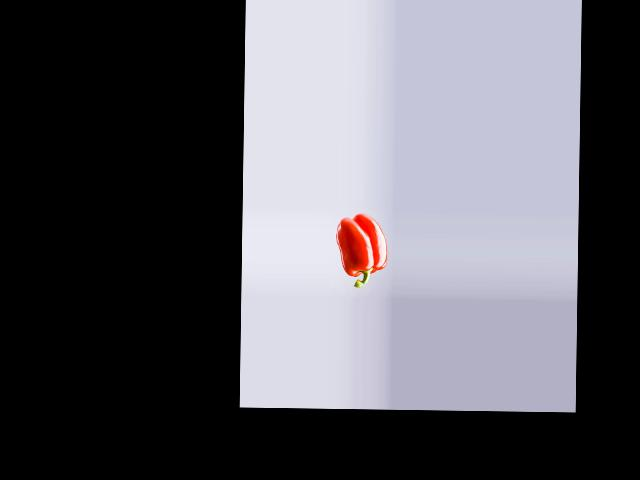bell_pepper: (334, 215, 390, 288)
